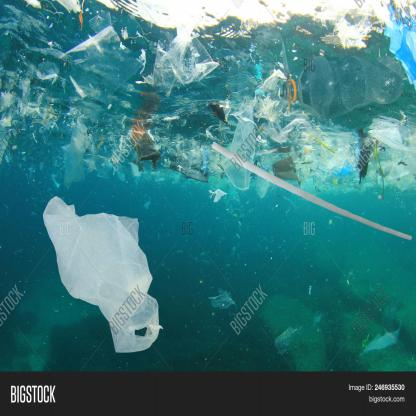bottle: (283, 52, 406, 116)
plastic-bag: (42, 196, 164, 355)
waste: (212, 141, 412, 242), (58, 25, 144, 104), (153, 24, 220, 88), (63, 118, 97, 186), (359, 318, 406, 361), (129, 127, 162, 172), (207, 287, 240, 316), (357, 128, 373, 185)
